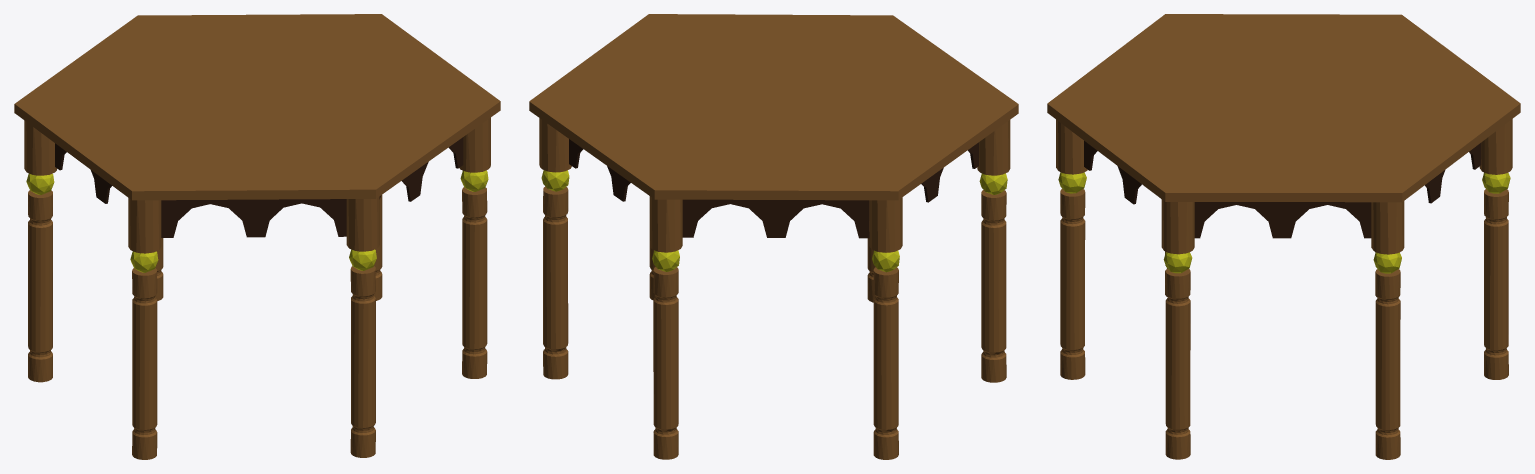
Rendered from tavolinoXarco.fbx.
The picture shows the model from 3 angles, left to right: view 1: azimuth 30°, elevation 25°; view 2: azimuth 150°, elevation 25°; view 3: azimuth 270°, elevation 25°; orthographic projection.
Parts seen in each view (by area): view 1: Cylinder.023; view 2: Cylinder.023; view 3: Cylinder.023.
Boxes of the visible parts, x1,y1,x2,y2 form: Cylinder.023: [14, 14, 500, 459]; Cylinder.023: [529, 14, 1018, 459]; Cylinder.023: [1047, 14, 1520, 459].
Bounding box in the file's own units: 85 × 60 × 95.
